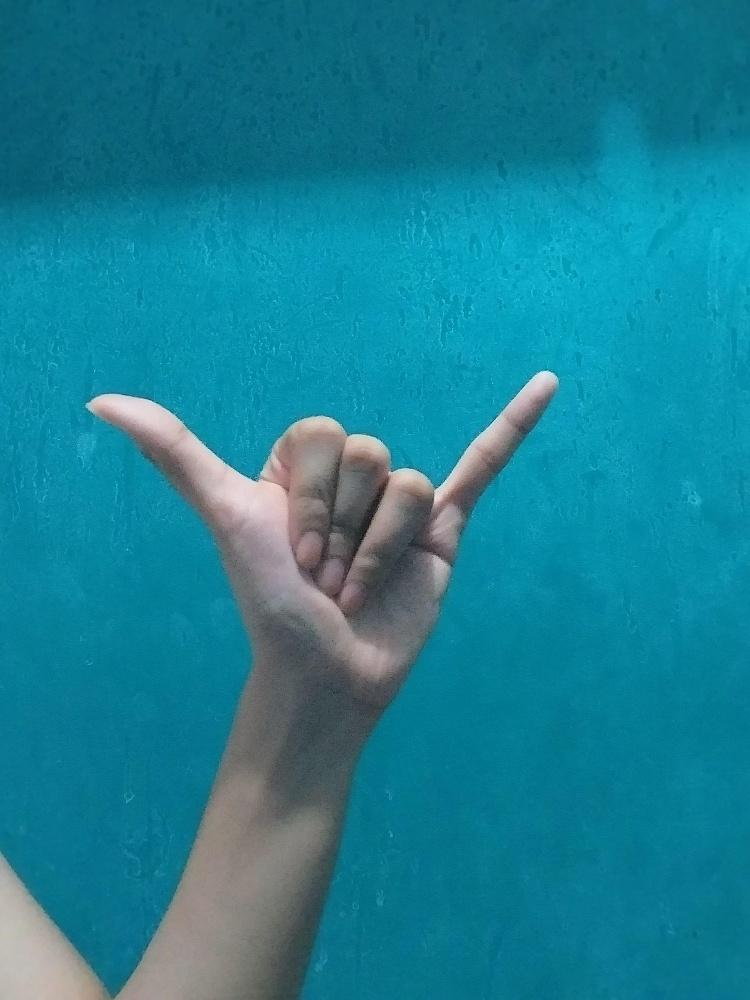y: (87, 361, 558, 696)
